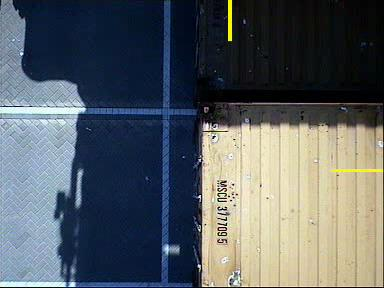groundmarker_2: (53, 149, 133, 201)
